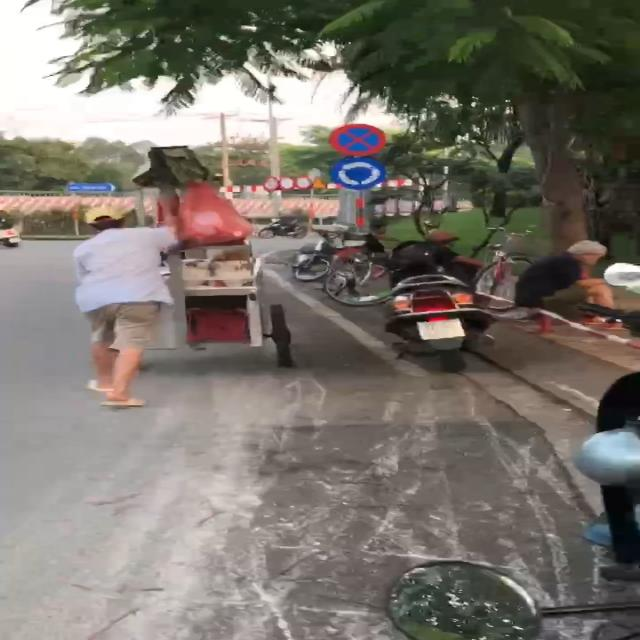Bien bao cam dung xe va do xe: (327, 122, 394, 158)
Bien bao noi giao nhau chay theo vong xuyen: (328, 156, 393, 192)
